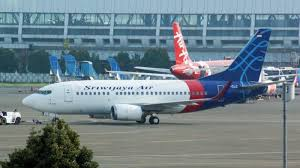maybay_dansu: (16, 43, 275, 122)
